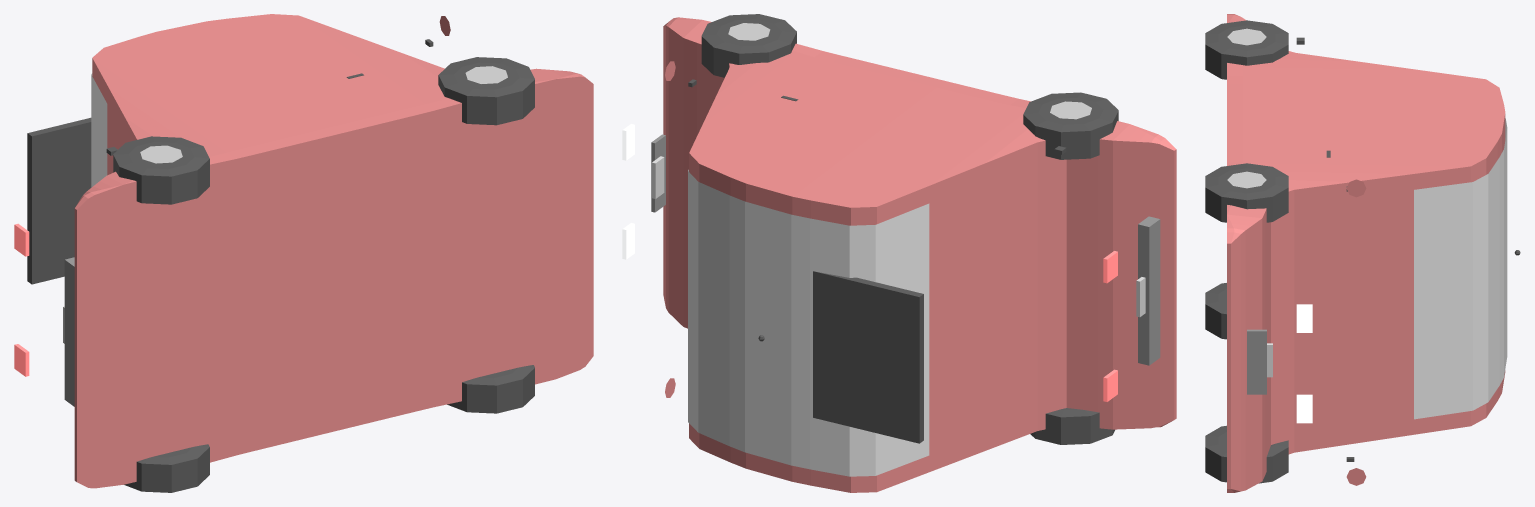
The model's file is Vehicle_4_9.glb.
3 views of the same model, side by side, from view 1: azimuth 30°, elevation 25°; view 2: azimuth 150°, elevation 25°; view 3: azimuth 270°, elevation 25° (orthographic). The views are drawn at different scales.
Parts seen in each view (by area): view 1: Body, Spoiler, Wheel_-0.85_0.72, Wheel_0.85_0.72, Wheel_-0.85_-0.72, Wheel_0.85_-0.72, BumperR, Roof; view 2: Body, Roof, Spoiler, Wheel_-0.85_0.72, Wheel_0.85_0.72, BumperR, Wheel_-0.85_-0.72, Grille, Hubcap_0.85_0.72, Hubcap_-0.85_0.72; view 3: Body, Roof, Wheel_0.85_0.72, Wheel_-0.85_0.72, Wheel_0.85_-0.72, Grille, Wheel_-0.85_-0.72, HL_L, Hubcap_-0.85_0.72, Hubcap_0.85_0.72, HL_R.
Part boxes in pixels (x1,y1,x2,y2): Body: (74,14,593,488); Spoiler: (27,117,91,284); Wheel_-0.85_0.72: (113,136,209,204); Wheel_0.85_0.72: (438,57,534,125); Wheel_-0.85_-0.72: (124,444,209,492); Wheel_0.85_-0.72: (447,365,534,413); BumperR: (64,257,74,406); Roof: (91,73,107,187); Body: (663,17,1176,492); Roof: (688,169,929,476); Spoiler: (813,271,923,443); Wheel_-0.85_0.72: (1023,92,1118,159); Wheel_0.85_0.72: (701,14,796,77); BumperR: (1138,216,1160,365); Wheel_-0.85_-0.72: (1030,408,1114,444); Grille: (651,134,665,212); Hubcap_0.85_0.72: (728,23,770,40); Hubcap_-0.85_0.72: (1050,101,1091,119); Body: (1227,14,1505,492); Roof: (1414,118,1507,419); Wheel_0.85_0.72: (1205,163,1288,222); Wheel_-0.85_0.72: (1205,20,1288,79); Wheel_0.85_-0.72: (1205,425,1288,483); Grille: (1247,329,1266,394); Wheel_-0.85_-0.72: (1205,283,1226,339); HL_L: (1296,394,1312,423); Hubcap_-0.85_0.72: (1227,28,1266,45); Hubcap_0.85_0.72: (1227,171,1266,188); HL_R: (1296,304,1312,332).
Bounding box in the file's own units: 2.7 × 1.7 × 1.58.
